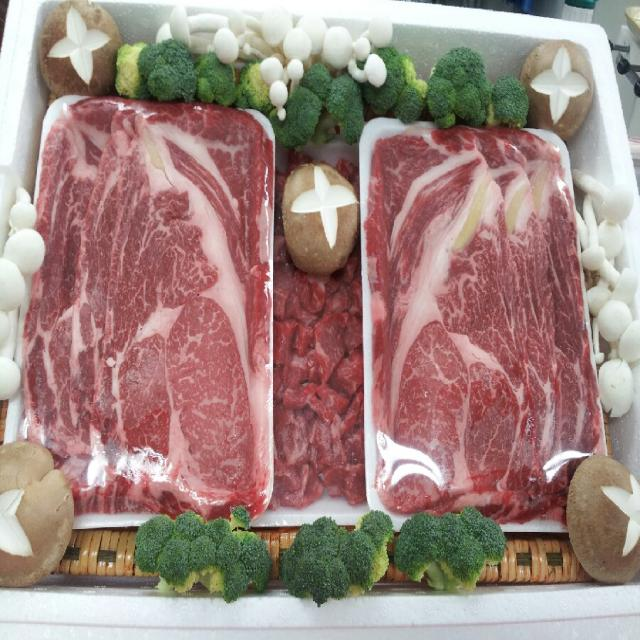beef: (367, 130, 580, 485), (49, 116, 247, 466)
